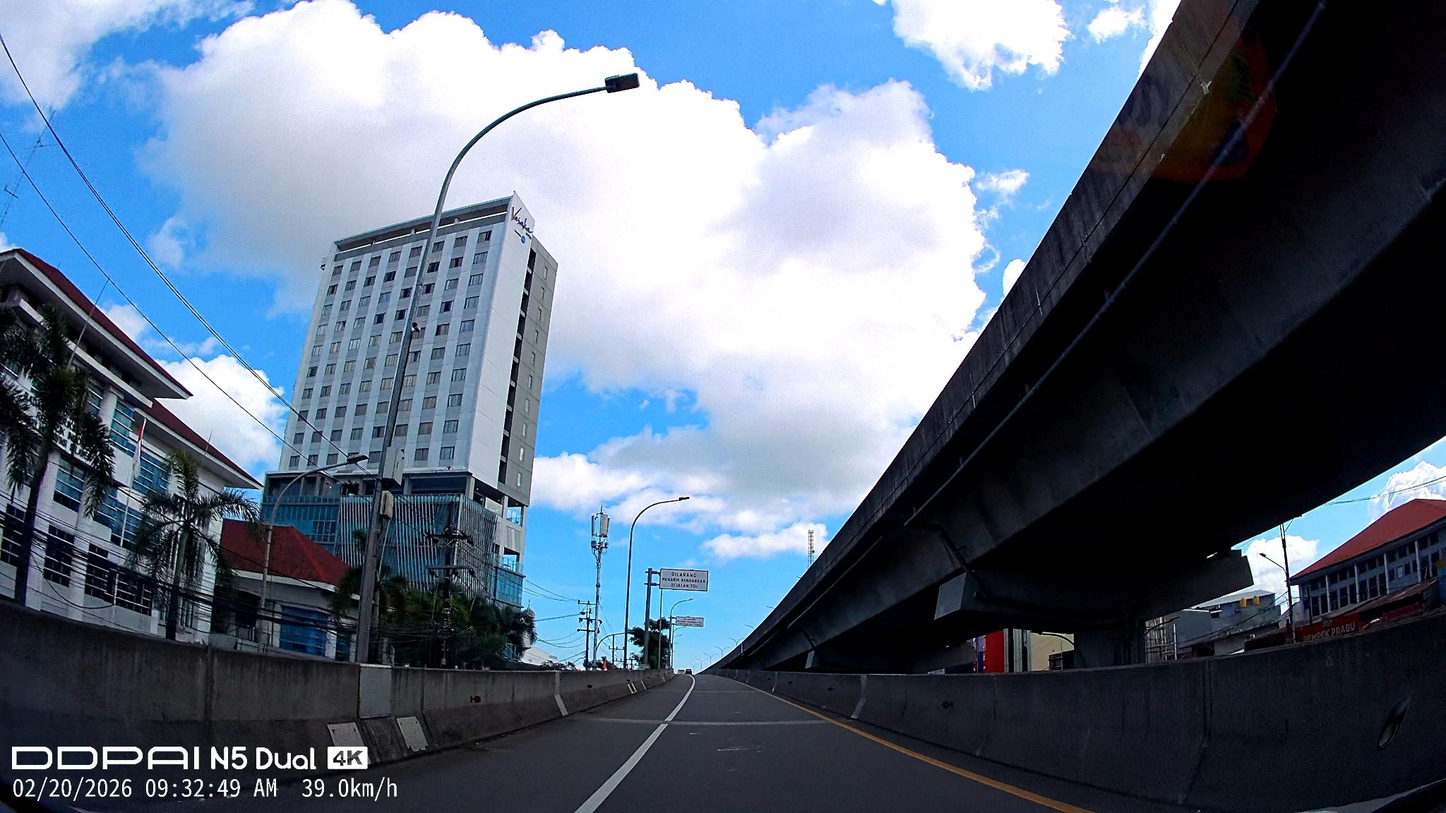rambu_teks: (660, 569, 709, 590)
